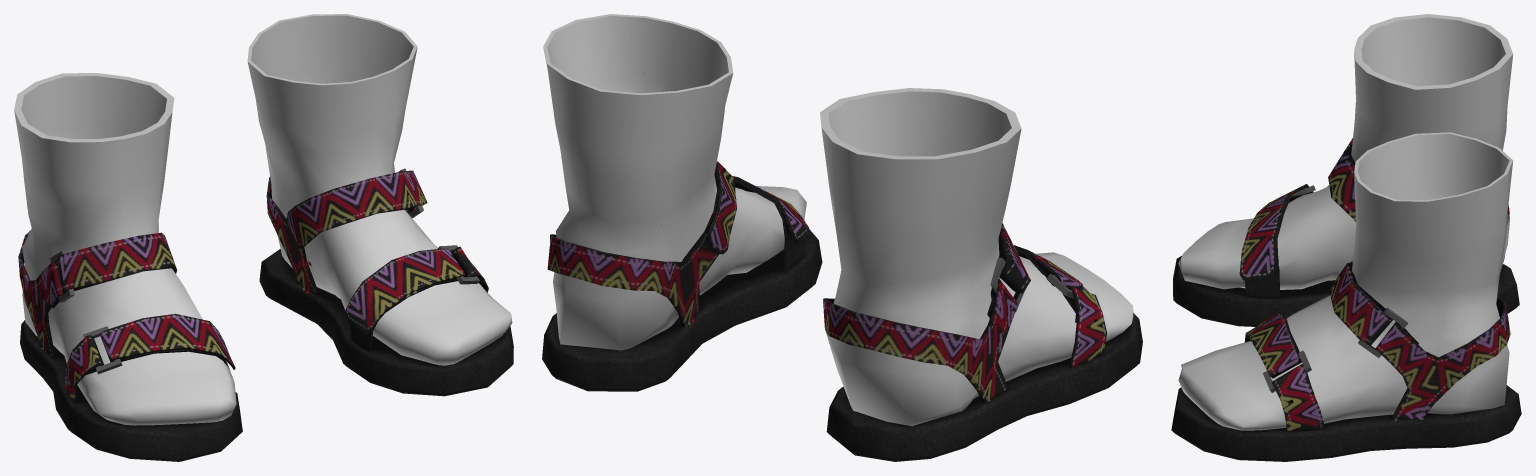
The model's file is Sandals.glb.
The picture shows the model from 3 angles, left to right: view 1: azimuth 30°, elevation 25°; view 2: azimuth 150°, elevation 25°; view 3: azimuth 270°, elevation 25°; orthographic projection. The views are drawn at different scales.
Parts seen in each view (by area): view 1: Sandals; view 2: Sandals; view 3: Sandals.
Boxes of the visible parts, <box> form: Sandals: <box>14,14,513,461</box>; Sandals: <box>542,14,1142,461</box>; Sandals: <box>1171,14,1521,461</box>.
Bounding box in the file's own units: 1.03 × 0.5904 × 0.7345.
Materials: 1 (1 with a texture image).
